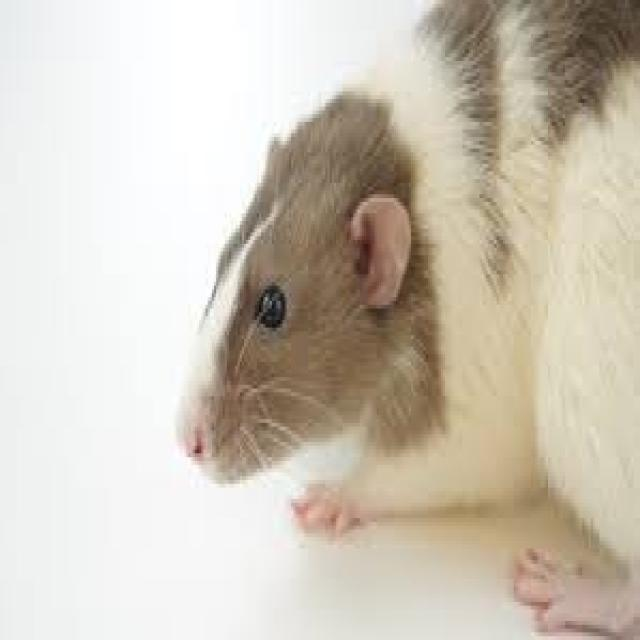Rat: (168, 6, 639, 501)
